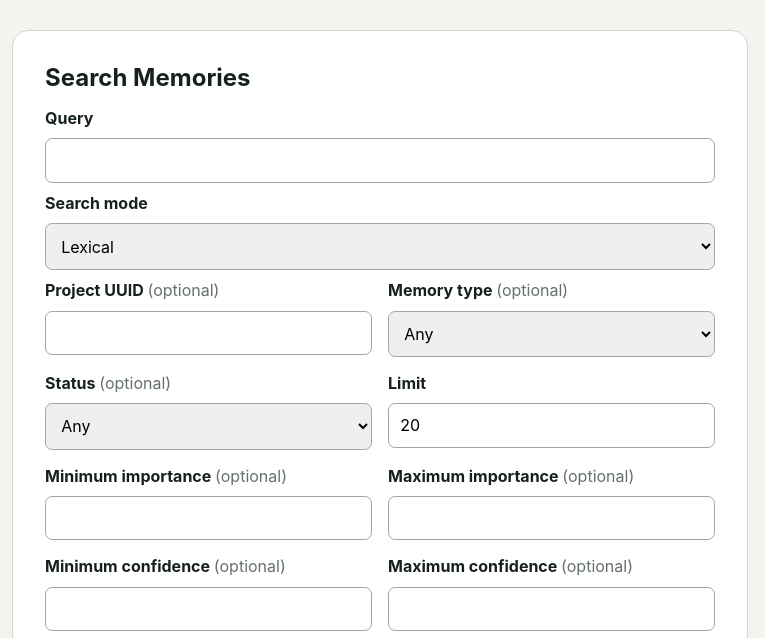
Test: Search › renders accessible lexical explanations and omits null fields
The image size is (765, 638).
Type "needle" into the field labelled "Query". click: [380, 160]
box: top-left (45, 138), bottom-right (715, 183)
(page scrolled)
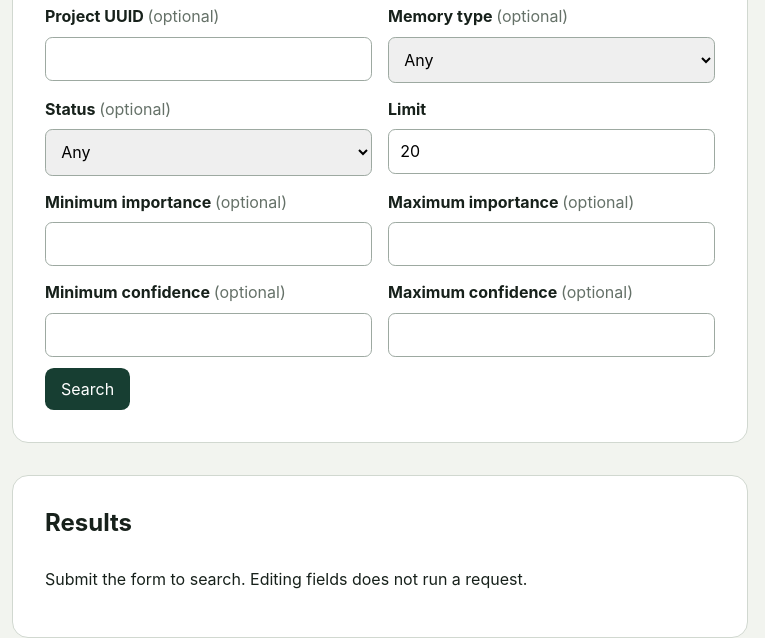
Click the button "Search". click: [88, 389]
box: top-left (45, 368), bottom-right (130, 410)
(page scrolled)
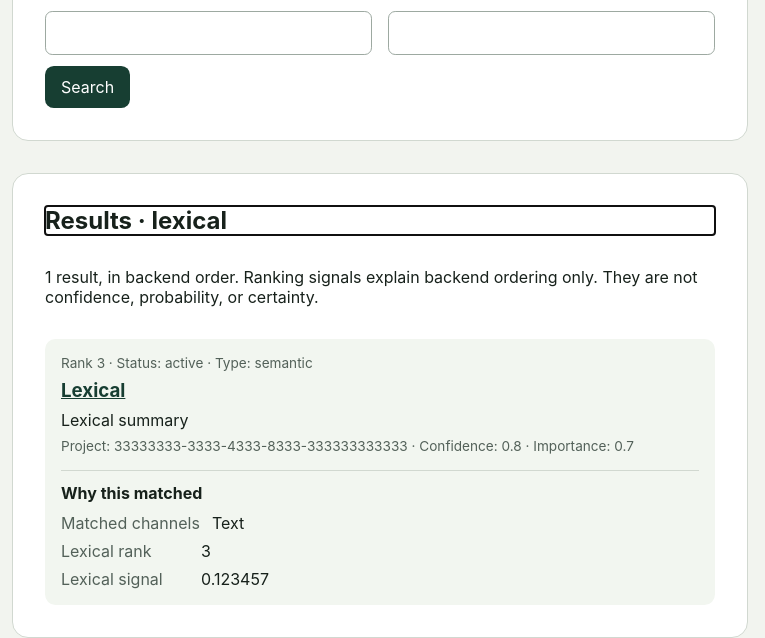
Expected: the text "Text" is shown, top-left (212, 513), bottom-right (244, 533)
Expected: the text "0.123457" is shown, top-left (201, 569), bottom-right (269, 589)
